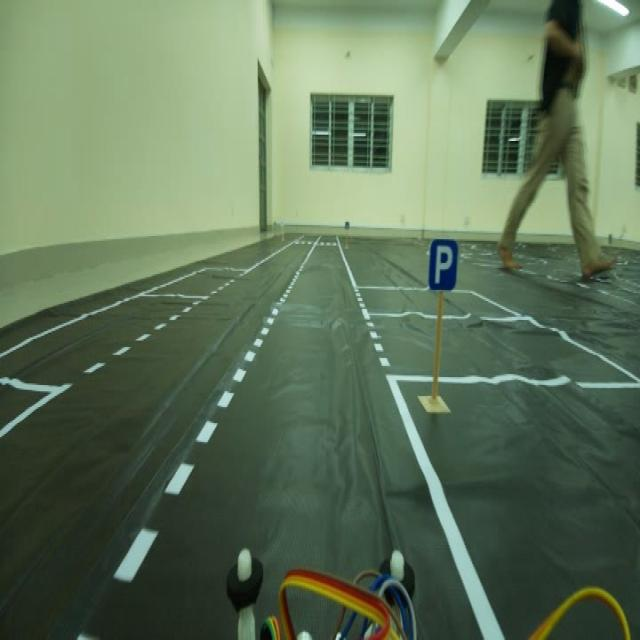parking: (424, 232, 462, 299)
